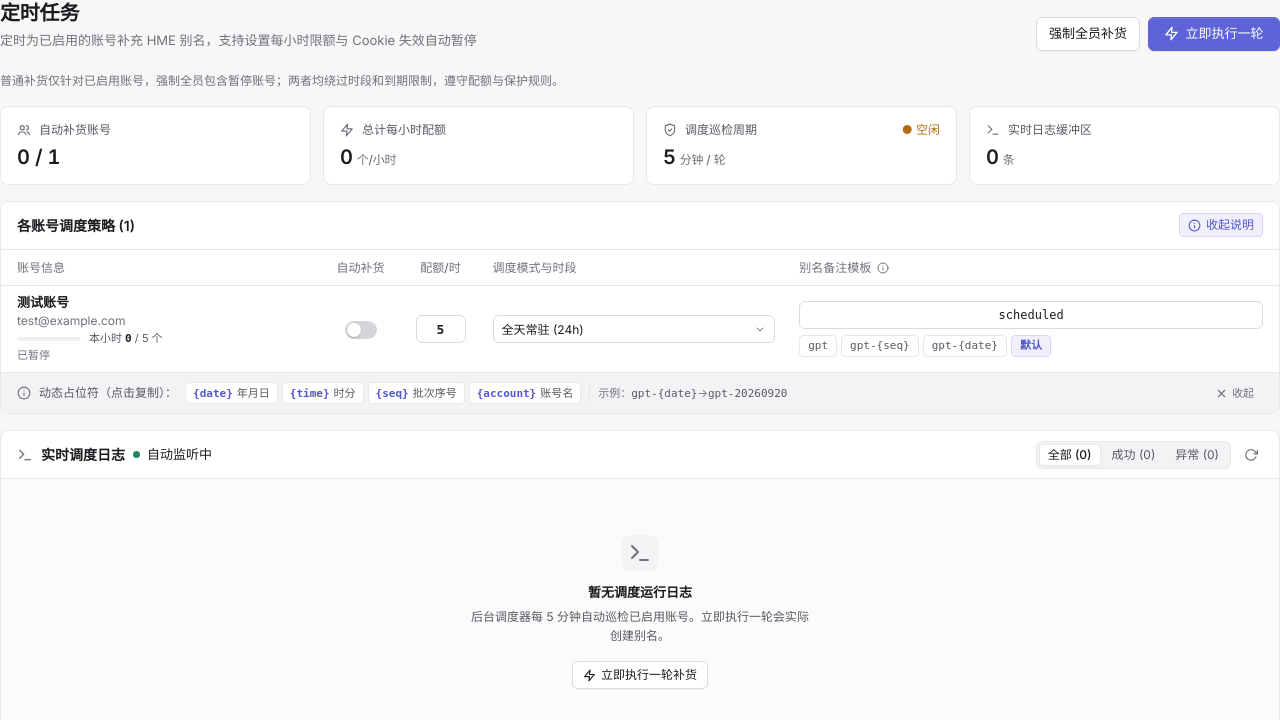
触发后服务端仍空闲则如实展示，触发失败=false 也恢复读取和编辑
This screenshot has width=1280, height=720.
What coordinates should you click on to do the following:
click the button "立即执行一轮"
I would click on:
 (1214, 34)
Its box is [1148,17,1279,51].
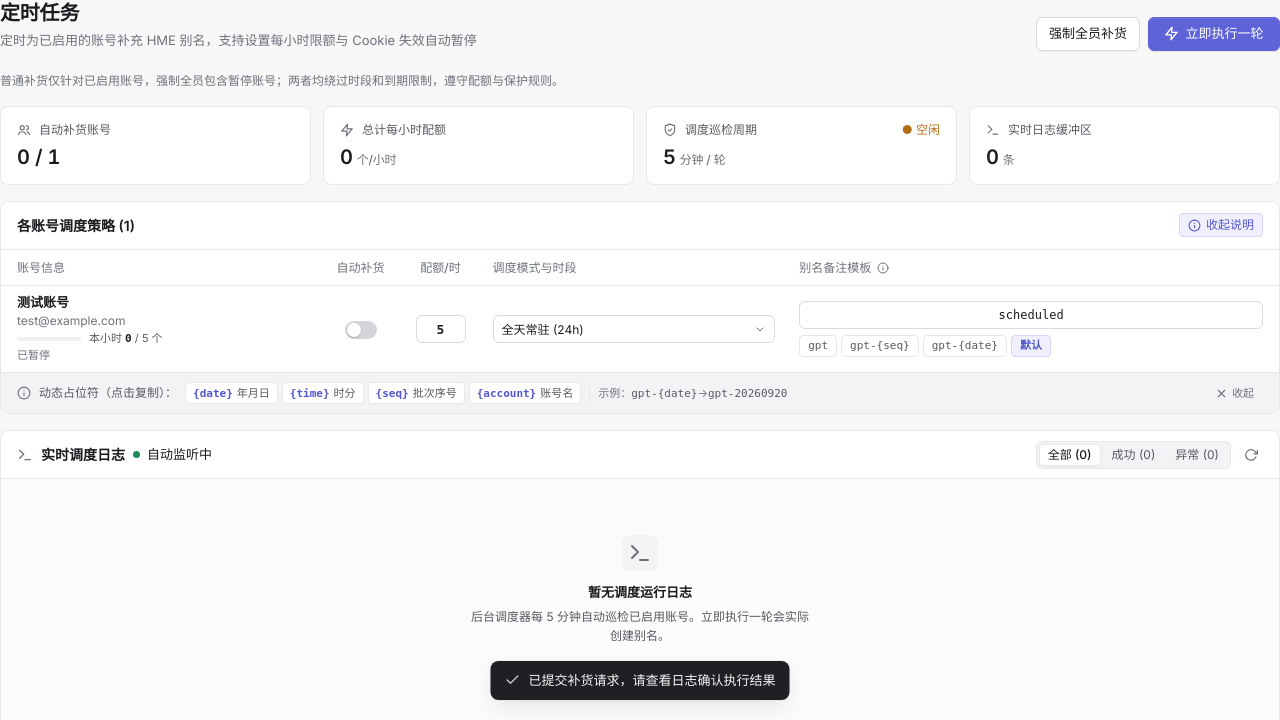
Expected: the text "● 空闲" is shown, [902,121,940,139]
Result: the text "已提交补货请求，请查看日志确认执行结果" is shown at [528,670,776,690]
